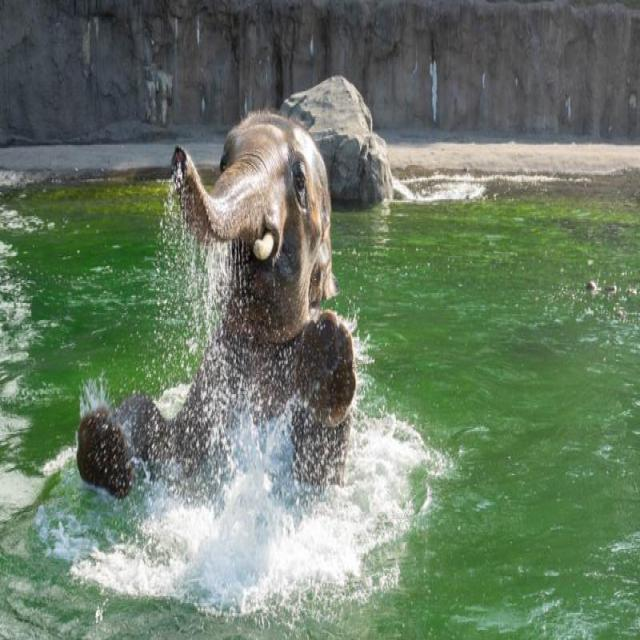Elephant: (62, 86, 367, 541)
